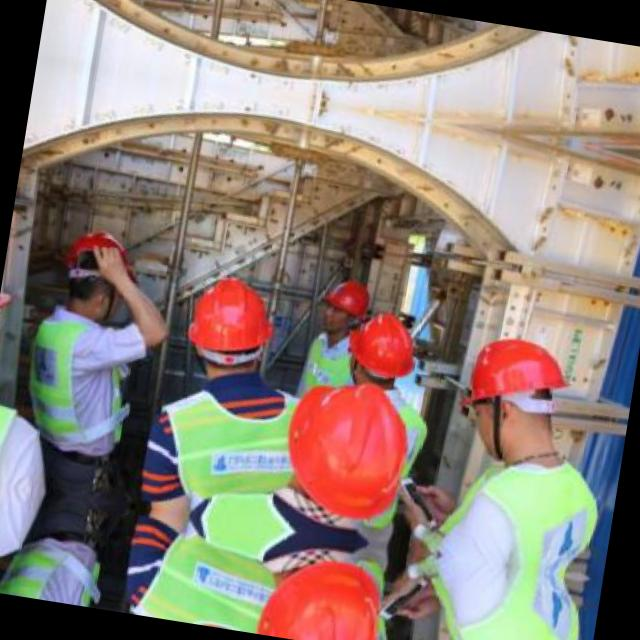helmet: (272, 368, 430, 532), (444, 323, 584, 465), (252, 543, 403, 640), (176, 268, 290, 391), (49, 220, 143, 324), (340, 308, 420, 401), (313, 274, 374, 342)
